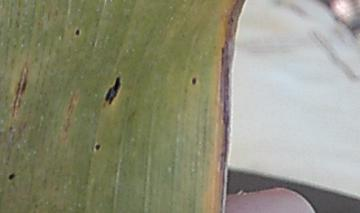tarspot: (104, 75, 121, 106), (73, 27, 82, 37), (7, 172, 16, 182), (190, 76, 198, 86), (94, 142, 102, 152)
